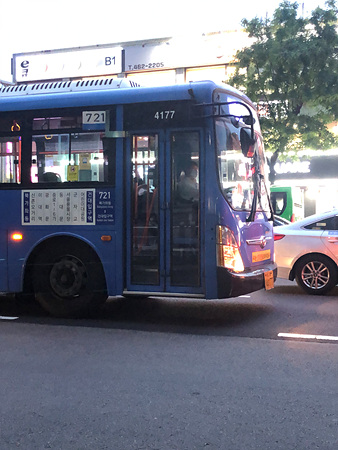entrance: (128, 124, 208, 298)
